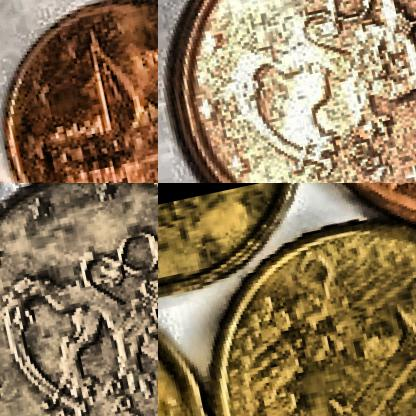coin: (183, 191, 415, 415), (158, 0, 415, 182), (0, 183, 157, 415), (0, 0, 157, 182)
